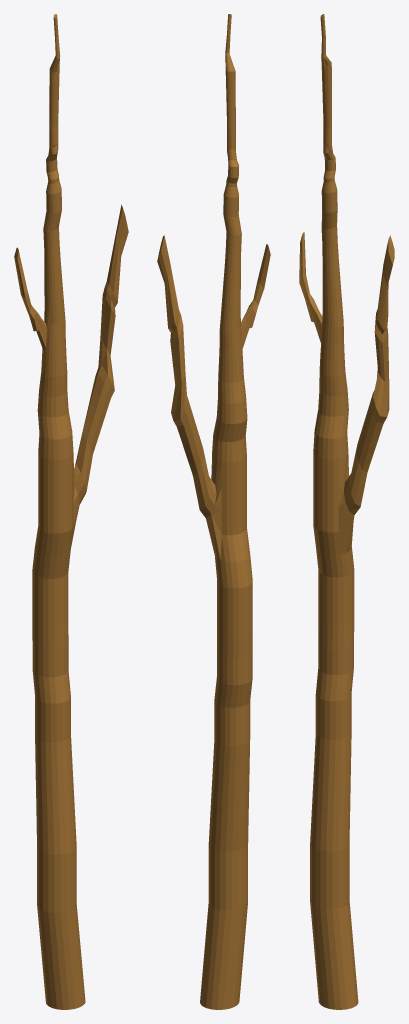
The model's file is stick_asset_2.fbx.
The picture shows the model from 3 angles, left to right: view 1: azimuth 30°, elevation 25°; view 2: azimuth 210°, elevation 25°; view 3: azimuth 330°, elevation 25°; orthographic projection.
Parts seen in each view (by area): view 1: pCylinder1; view 2: pCylinder1; view 3: pCylinder1.
Part boxes in pixels (x1,y1,x2,y2): pCylinder1: (14,14,128,1009); pCylinder1: (157,14,270,1009); pCylinder1: (299,14,394,1009).
Size of the model in its own units: 6.54 by 60.39 by 2.78.
